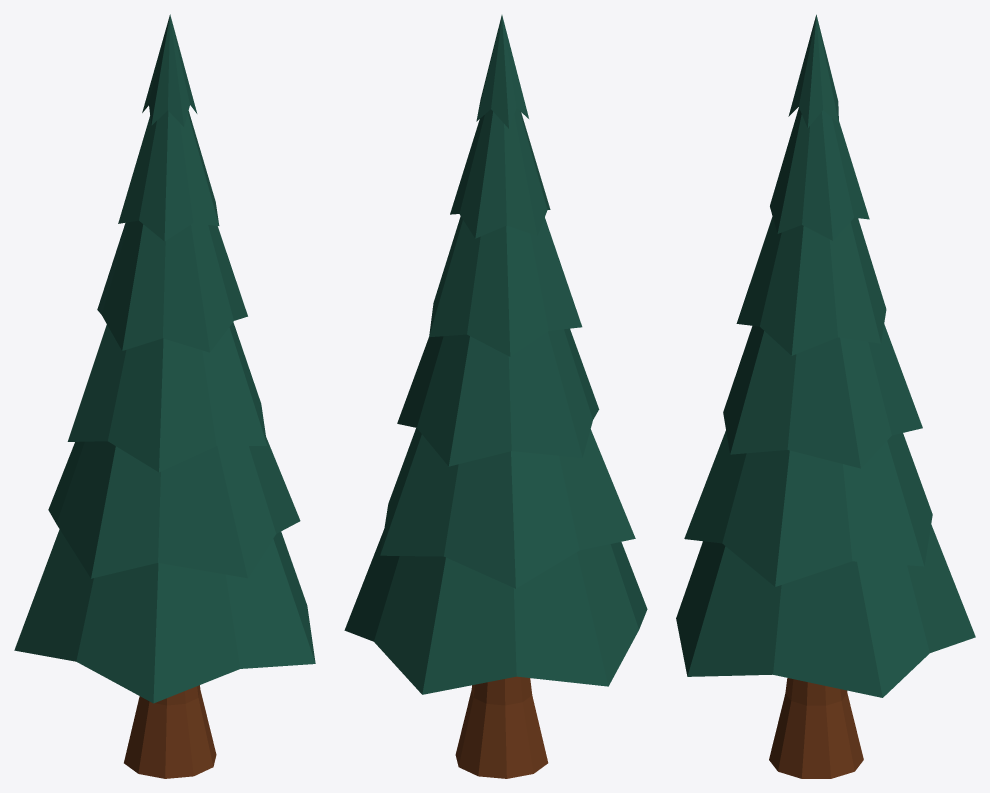
File: pineTree.fbx
3 views of the same model, side by side, from view 1: azimuth 30°, elevation 25°; view 2: azimuth 150°, elevation 25°; view 3: azimuth 270°, elevation 25° (orthographic).
Visible parts, largest first — view 1: PineTree.003; view 2: PineTree.003; view 3: PineTree.003.
Part boxes in pixels (<box>): PineTree.003: <box>14,14,315,778</box>; PineTree.003: <box>344,15,647,778</box>; PineTree.003: <box>676,14,975,778</box>.
Size of the model in its own units: 441 by 1227 by 447.
